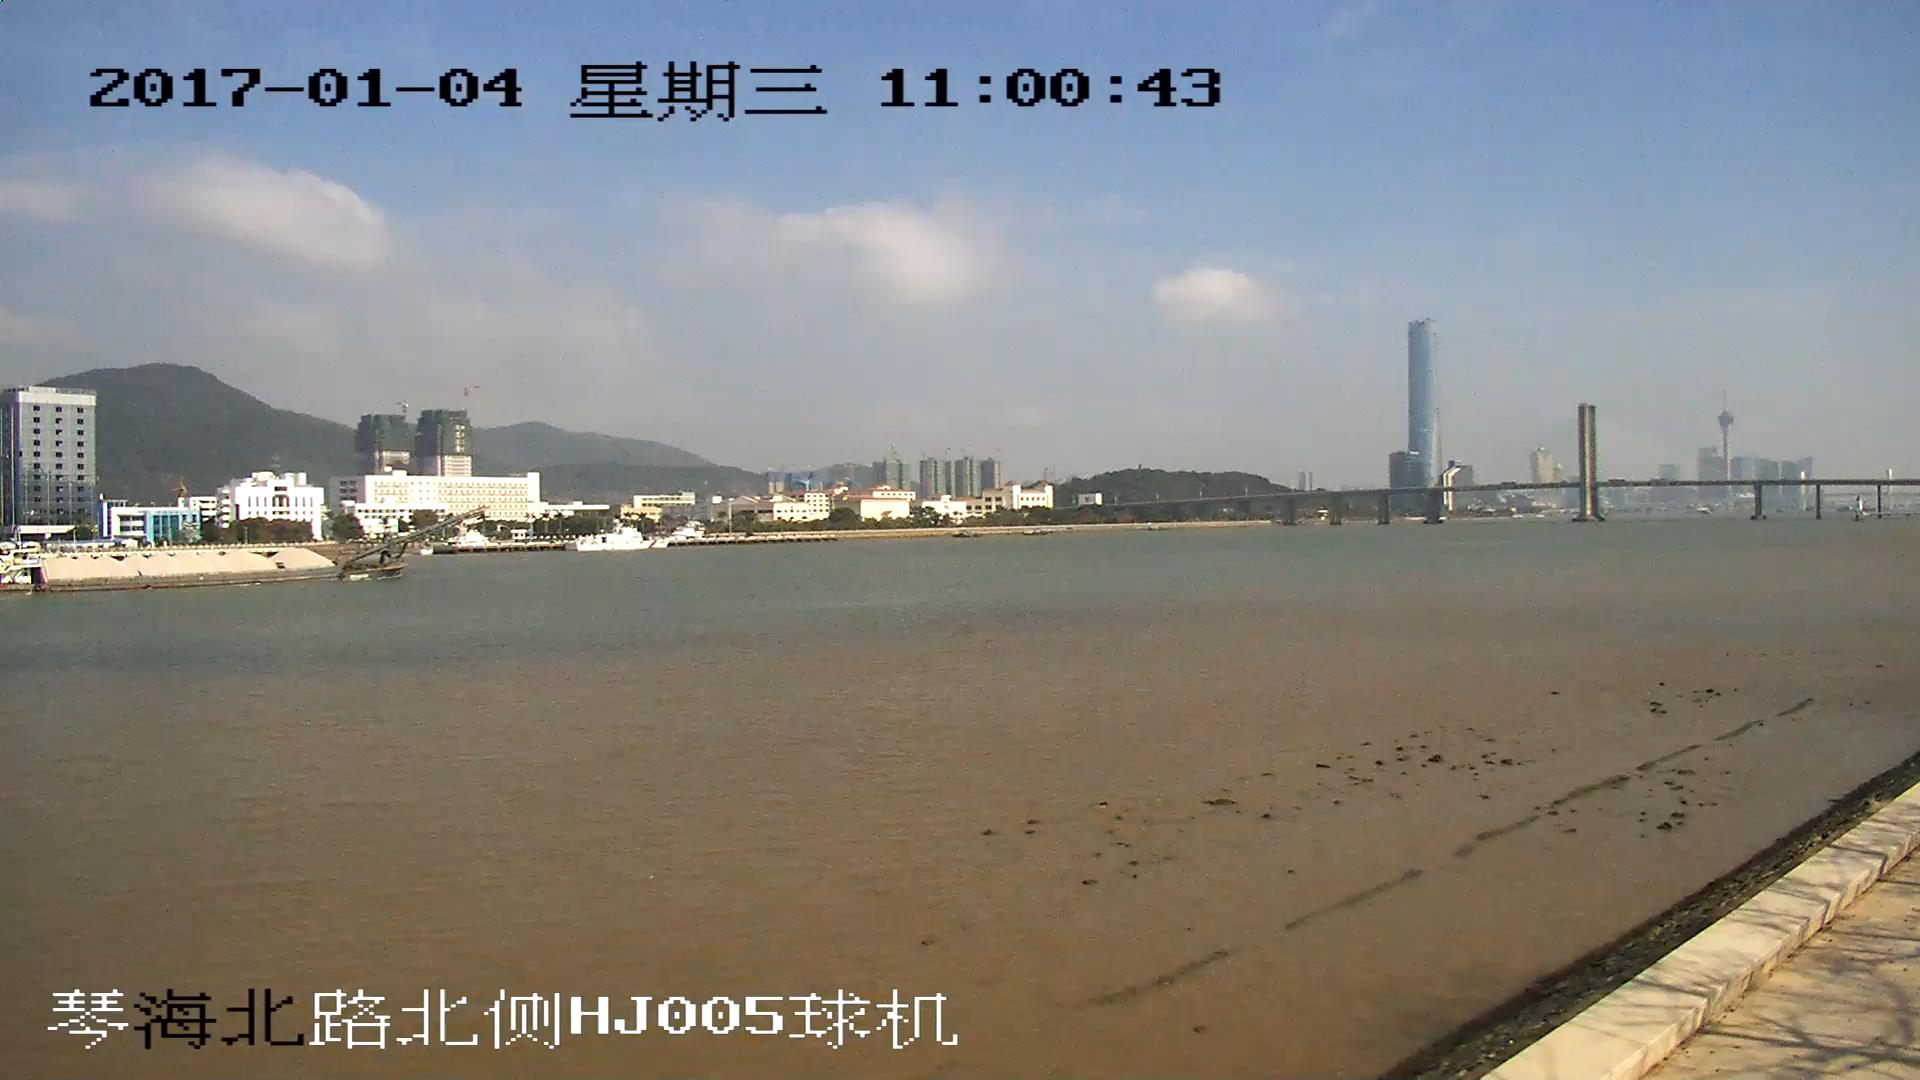ore carrier: (1, 506, 480, 596)
